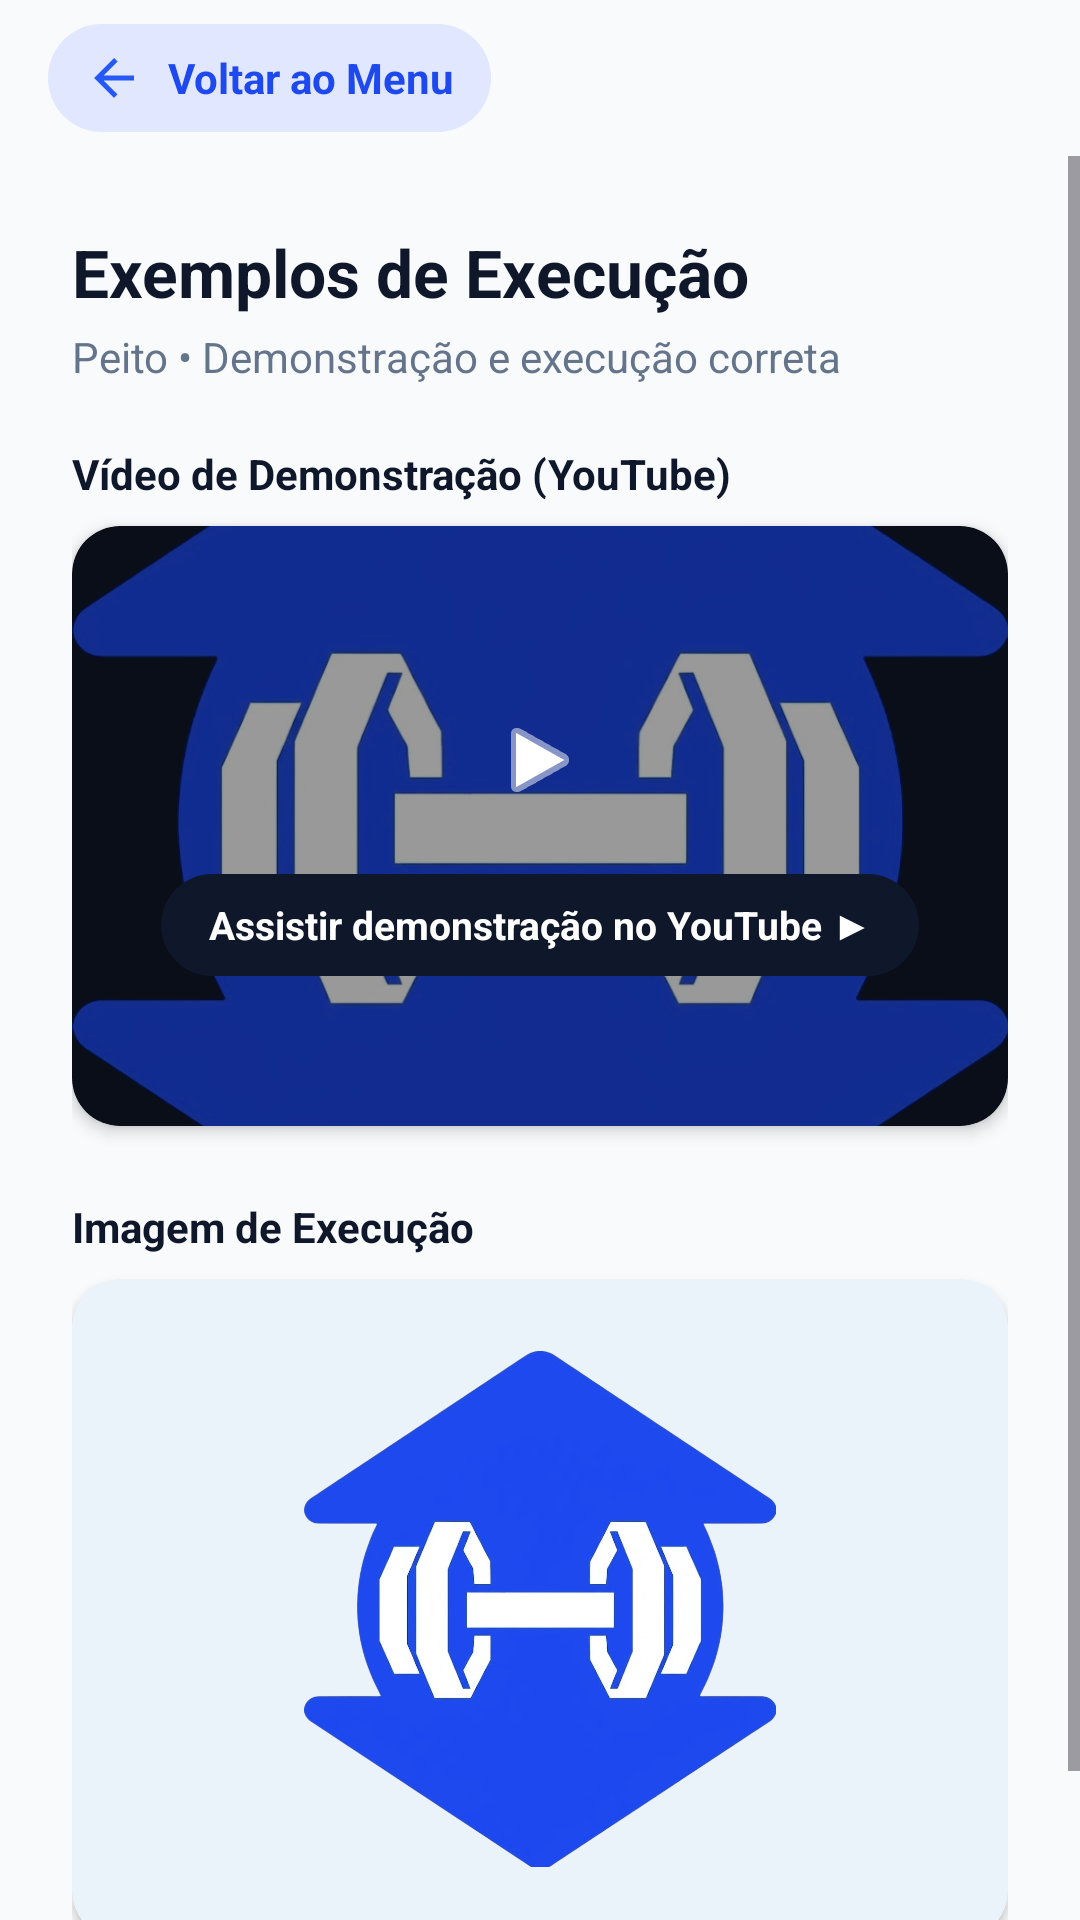

Point at icon controls on the screen. Image size 1080px×1920px, points as (x=x, y=y).
play: (x=540, y=760)
